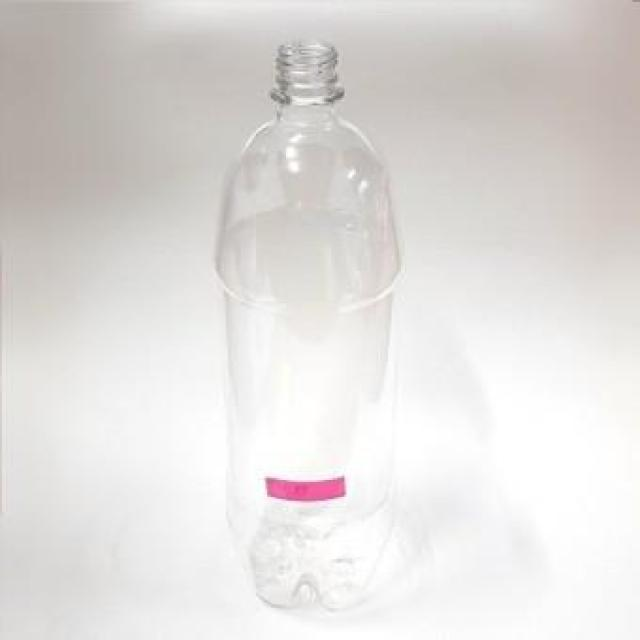good: (185, 26, 418, 626)
